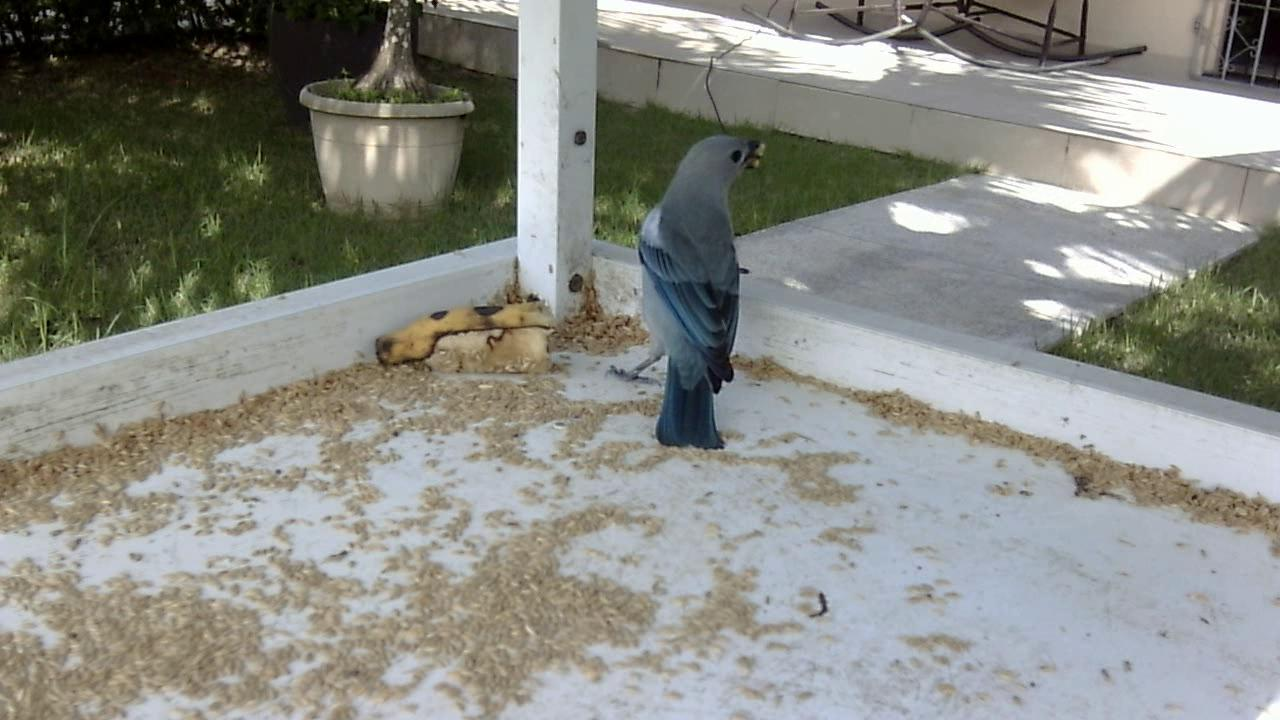sanhaco_da_amazonia: (608, 129, 769, 461)
